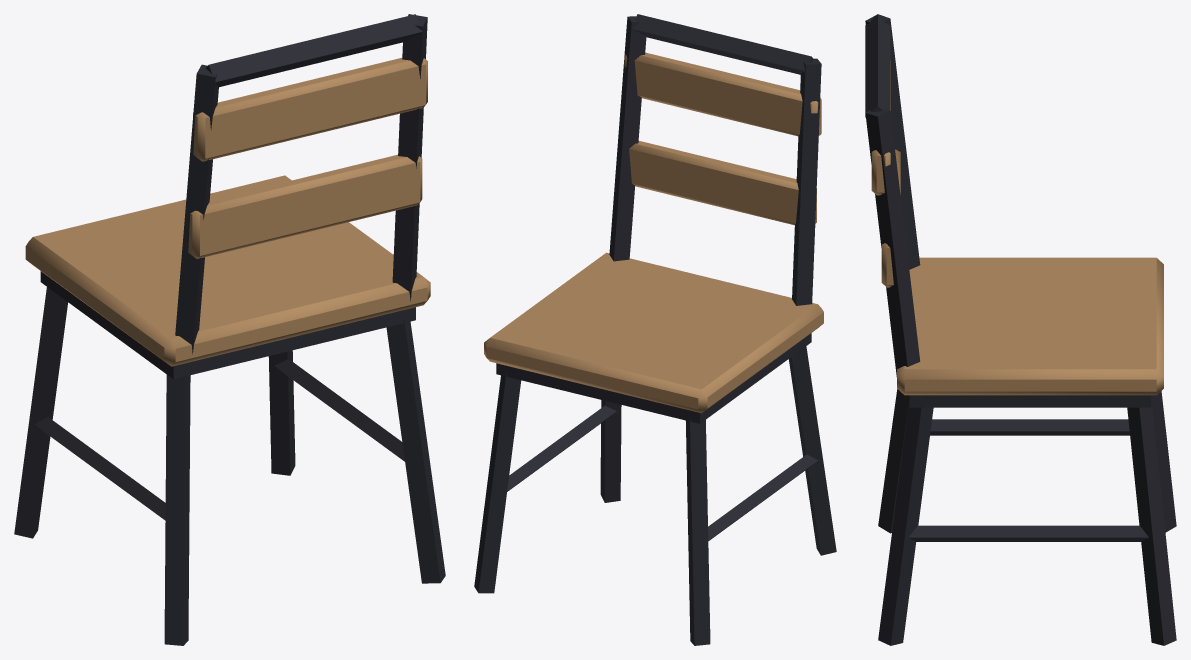
File: seat_cafe-table_v2.glb
The picture shows the model from 3 angles, left to right: view 1: azimuth 30°, elevation 25°; view 2: azimuth 150°, elevation 25°; view 3: azimuth 270°, elevation 25°; orthographic projection. The views are drawn at different scales.
Parts seen in each view (by area): view 1: body; view 2: body; view 3: body.
Part boxes in pixels (x1,y1,x2,y2): body: (14, 14, 445, 645); body: (474, 14, 836, 645); body: (865, 14, 1176, 645).
Bounding box in the file's own units: 0.4643 × 0.9122 × 0.4895.
